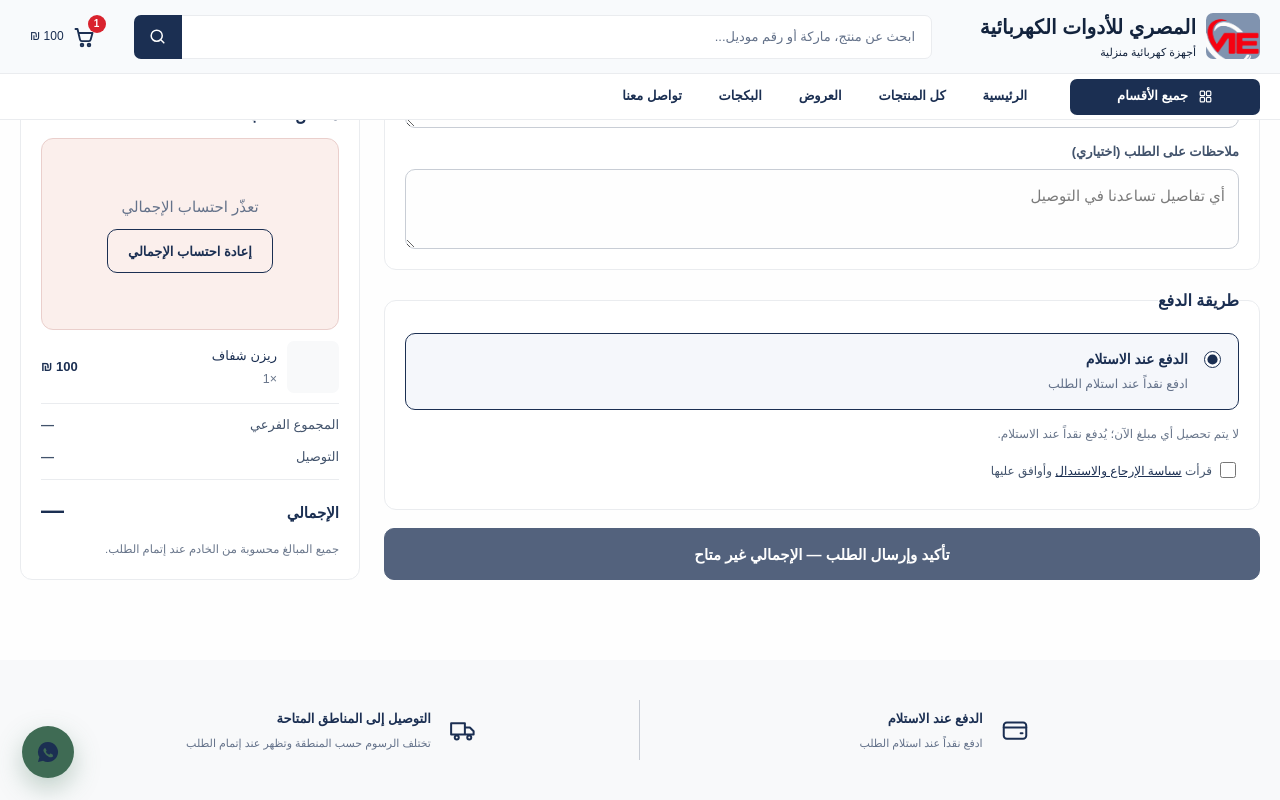
Test case: public storefront › keeps failed pricing blocked and retries the quote
(page scrolled)
Click the checkbox: (1228, 470) [1220, 462, 1236, 478]
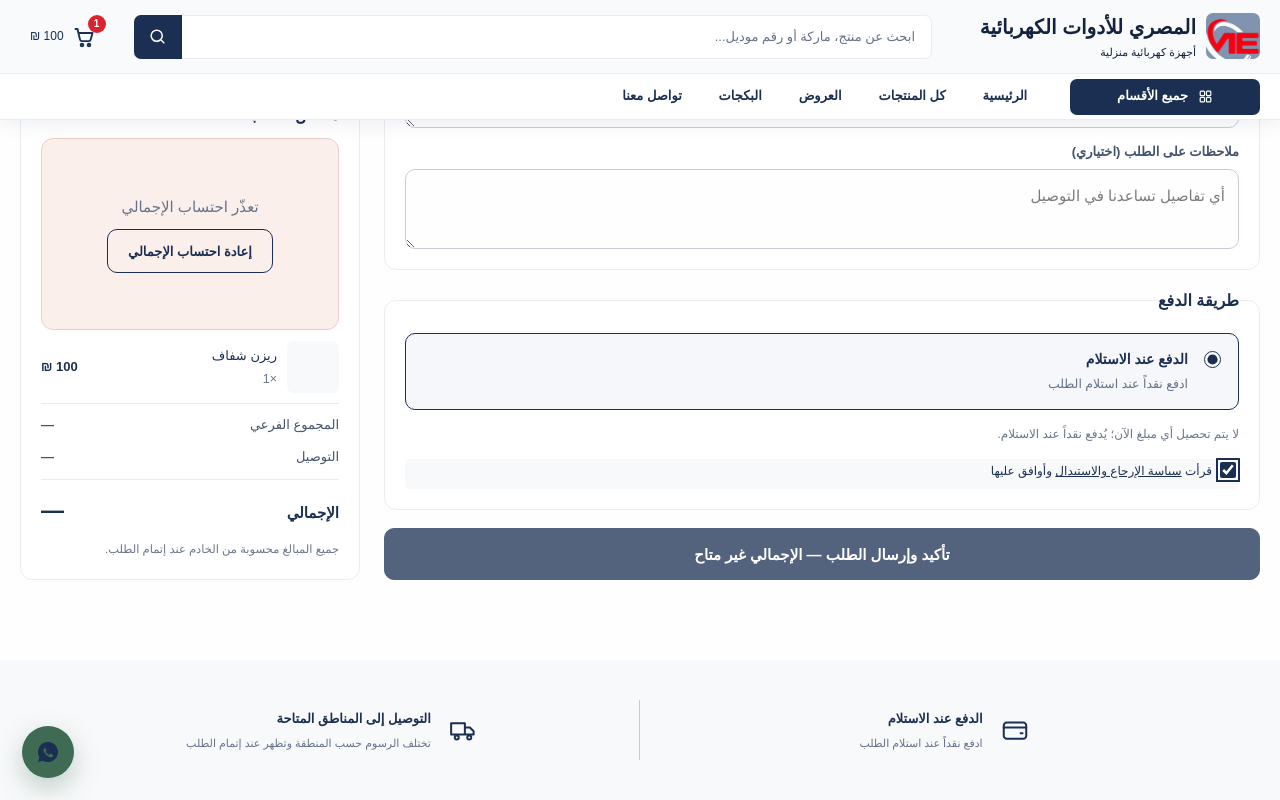
expect the text "تعذّر احتساب الإجمالي" is shown: met, box [121, 195, 259, 219]
expect the button "تأكيد وإرسال الطلب — الإجمالي غير متاح" is disabled: met, box [384, 528, 1260, 580]
Click the button "إعادة احتساب الإجمالي": (190, 251) [107, 229, 273, 273]
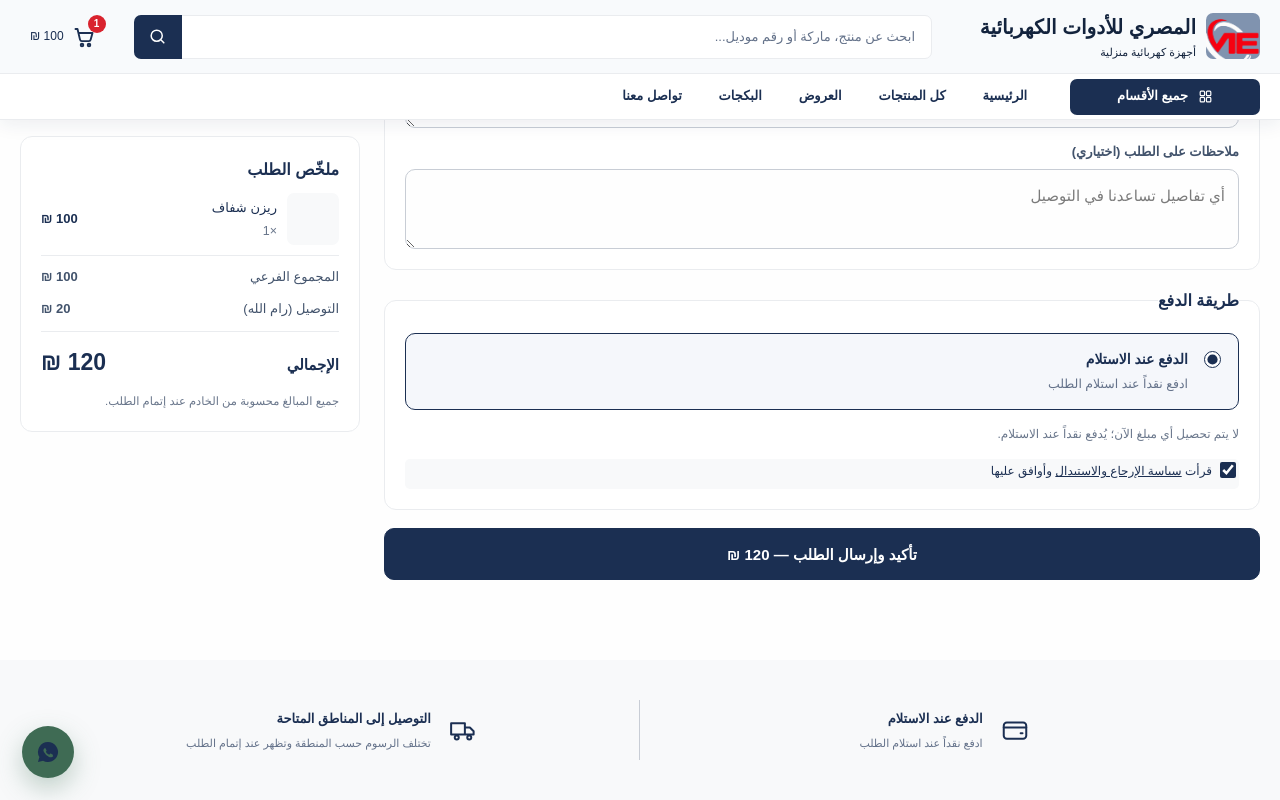
expect the button "تأكيد وإرسال الطلب — 120 ₪" is enabled: met, box [384, 528, 1260, 580]
